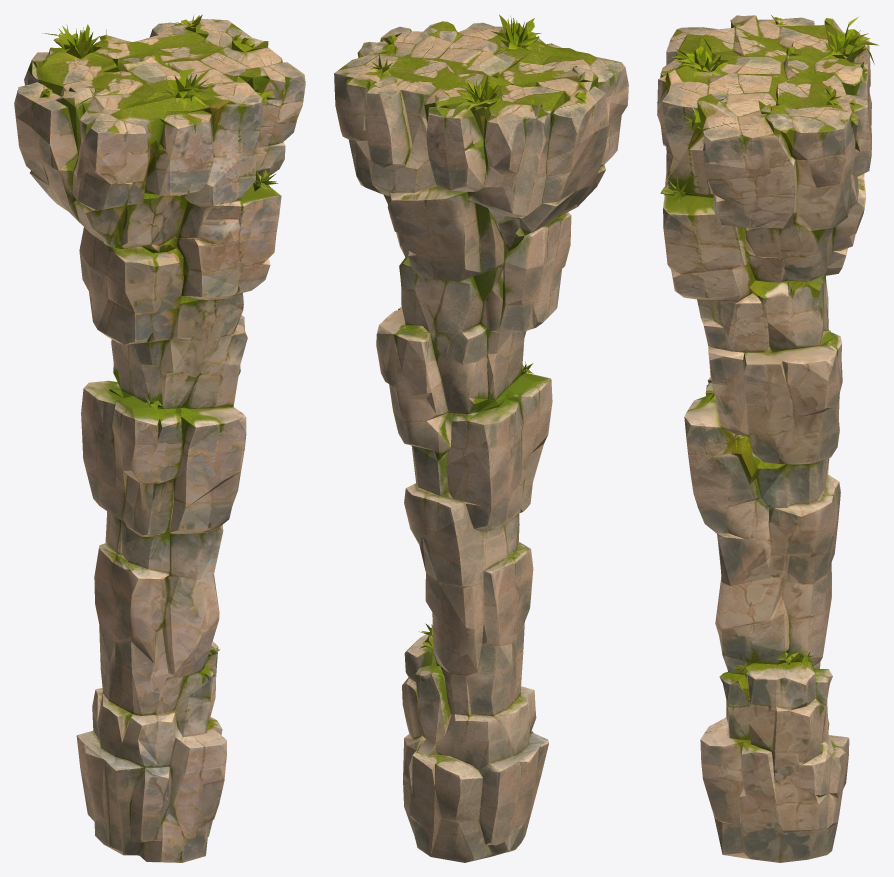
The model's file is rock_spire.glb.
The picture shows the model from 3 angles, left to right: view 1: azimuth 30°, elevation 25°; view 2: azimuth 150°, elevation 25°; view 3: azimuth 270°, elevation 25°; orthographic projection.
Size of the model in its own units: 0.5933 by 1.89 by 0.4785.
1 material, 1 textured.
